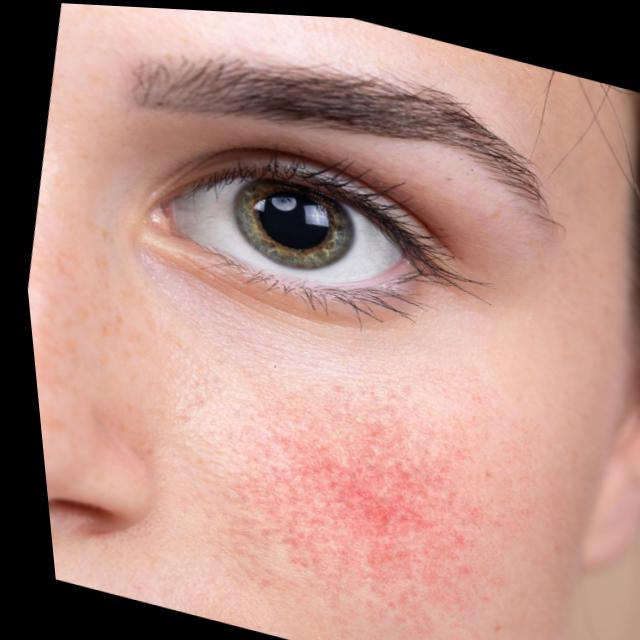skinredness: (173, 336, 538, 640)
